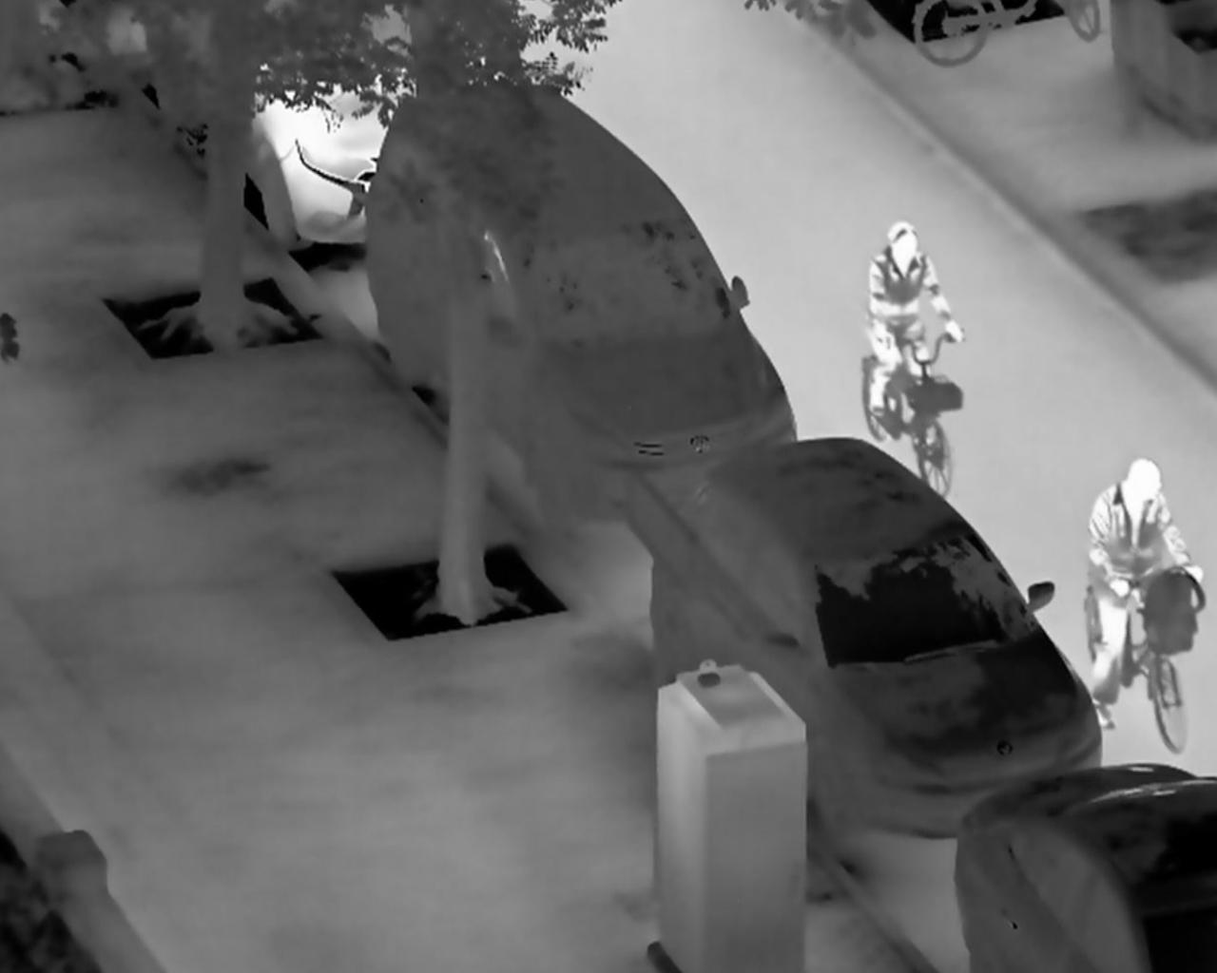person: (1084, 457, 1207, 734), (863, 222, 967, 424)
